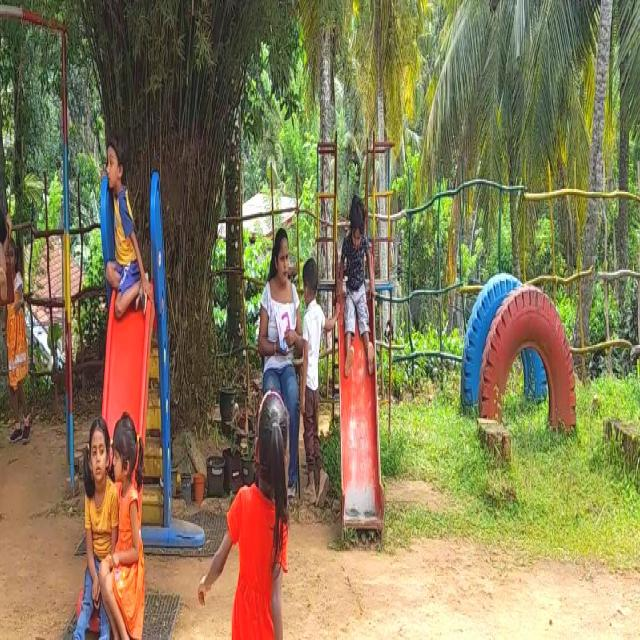adult: (258, 224, 301, 386)
child: (205, 402, 297, 640), (68, 409, 116, 640), (110, 410, 146, 640), (102, 123, 139, 328), (302, 254, 332, 506), (344, 190, 376, 381), (0, 137, 16, 316)
